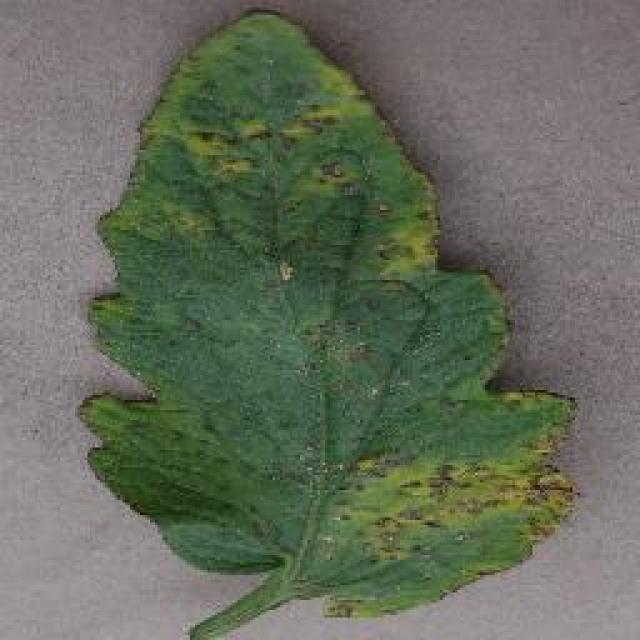bacterial spot: (84, 8, 580, 635)
